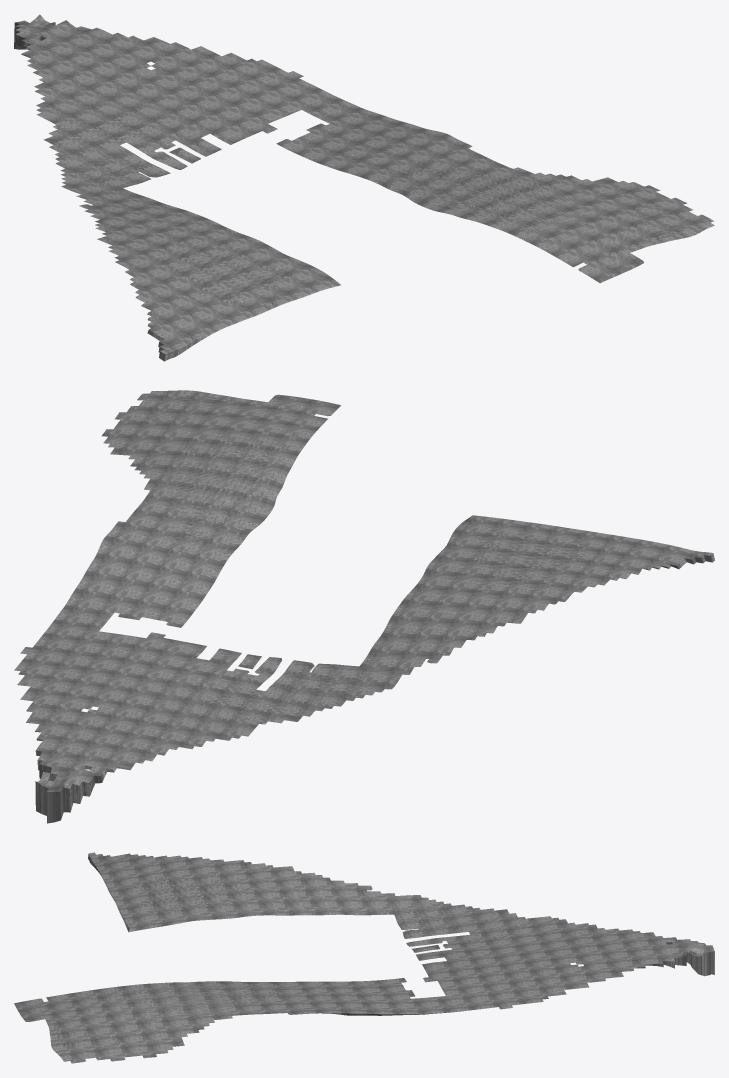
Rendered from cartagenapuerto.glb.
The picture shows the model from 3 angles, top to bottom: view 1: azimuth 30°, elevation 25°; view 2: azimuth 150°, elevation 25°; view 3: azimuth 270°, elevation 25°; orthographic projection. The views are drawn at different scales.
Parts seen in each view (by area): view 1: Cube.005; view 2: Cube.005; view 3: Cube.005.
Boxes of the visible parts, bbox=[...] form: Cube.005: bbox=[14, 14, 714, 361]; Cube.005: bbox=[14, 390, 714, 823]; Cube.005: bbox=[14, 852, 714, 1063].
Size of the model in its own units: 50.23 by 4.45 by 68.15.
Materials: 1 (1 with a texture image).
